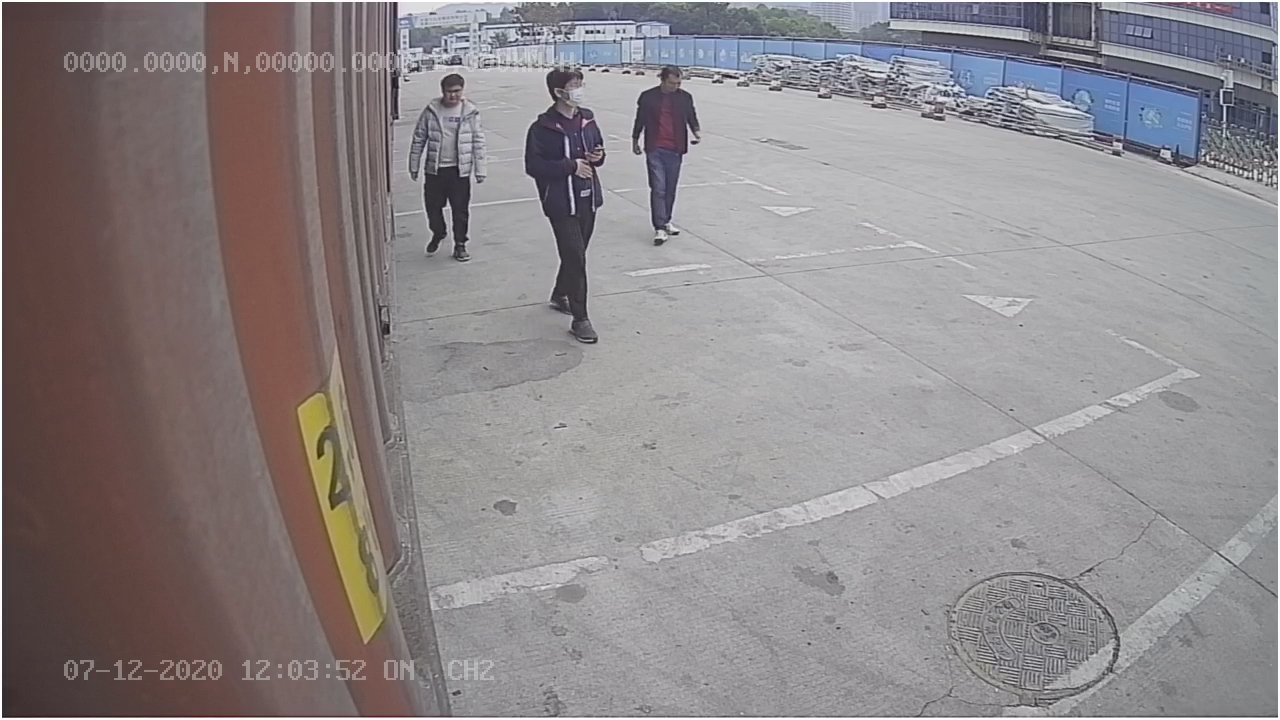person: (525, 67, 609, 347)
